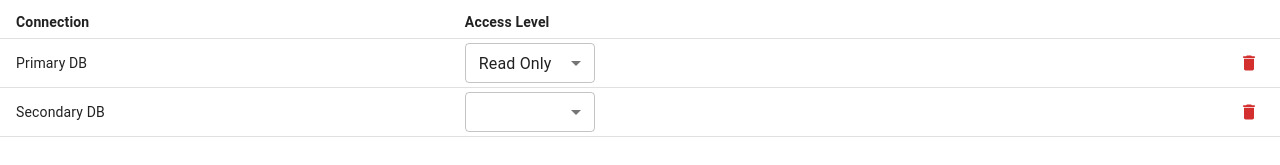
Test: ConnectionScopeTable › shows only Read Only option when owner has read level
Step 1. Press the mouse on the dropdown labelled "Read Only" → (515, 63), box 479,54 -> 552,72
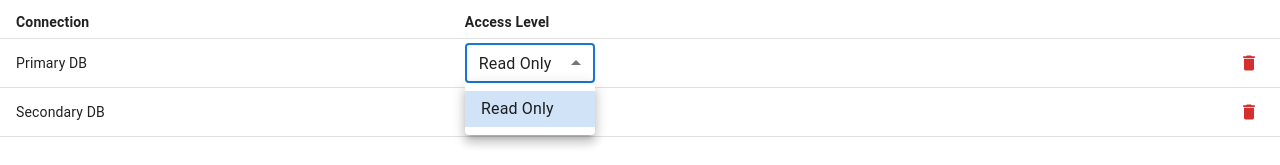
Expected: the option "Read Only" is shown, 465,91 -> 595,127
